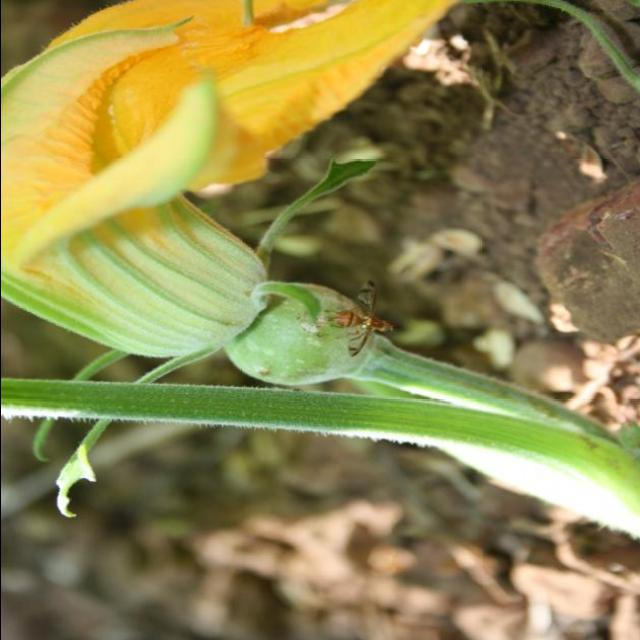Fruit fly: (310, 277, 426, 364)
